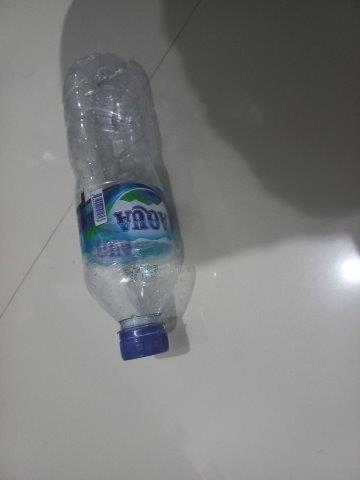botolplastik: (63, 55, 181, 362)
